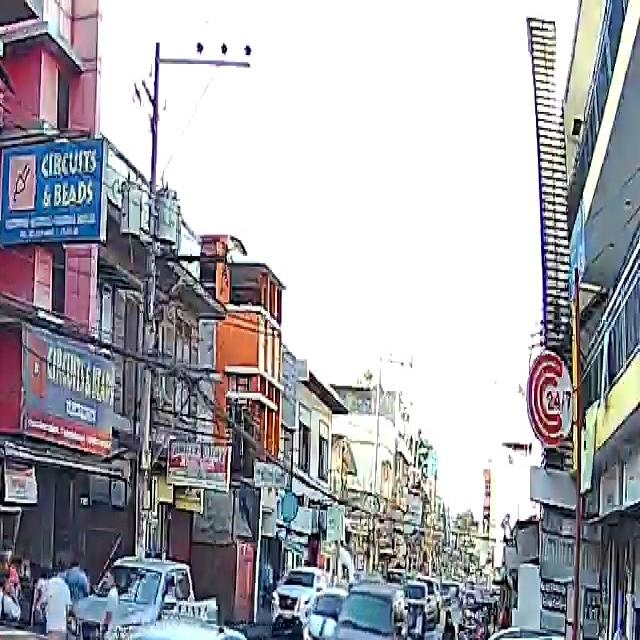car: (64, 556, 192, 640), (0, 601, 272, 640), (308, 581, 418, 640), (114, 613, 278, 640), (270, 570, 326, 633), (468, 629, 640, 640)
